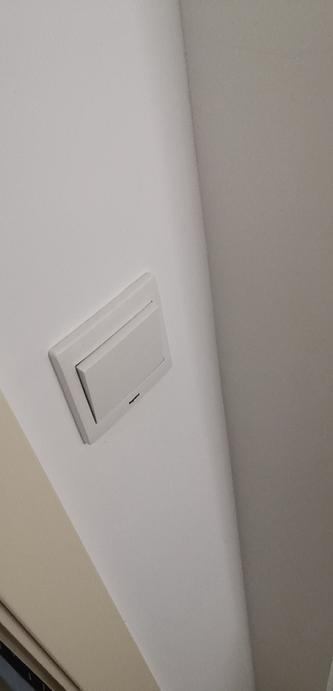switch: (71, 291, 182, 427)
